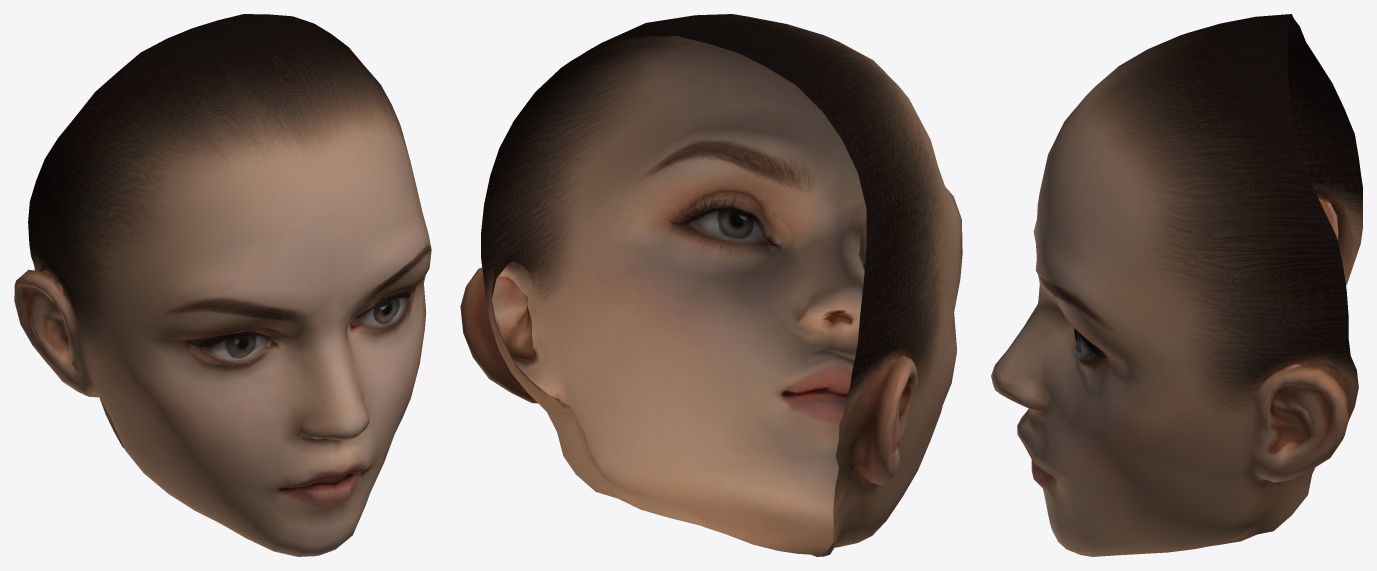
The picture shows the model from 3 angles, left to right: view 1: azimuth 30°, elevation 25°; view 2: azimuth 150°, elevation 25°; view 3: azimuth 270°, elevation 25°; orthographic projection. The views are drawn at different scales.
Parts seen in each view (by area): view 1: faceV3; view 2: faceV3; view 3: faceV3.
Part boxes in pixels (x1,y1,x2,y2): faceV3: (14, 14, 431, 556); faceV3: (460, 14, 962, 556); faceV3: (991, 14, 1362, 556).
Bounding box in the file's own units: 0.167 × 0.2048 × 0.1358.
1 material, 1 textured.
